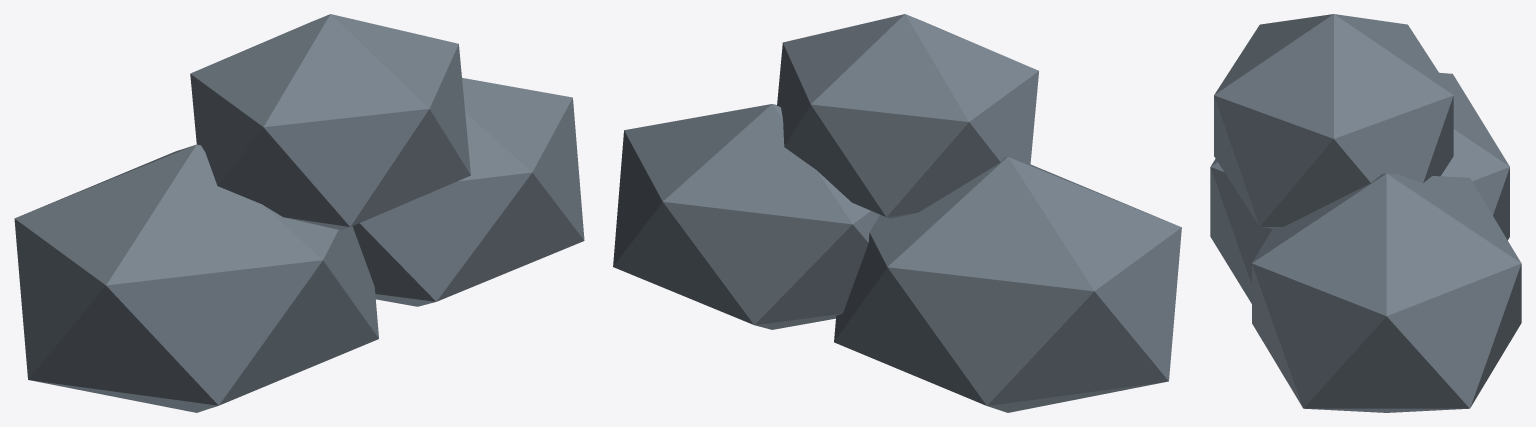
The model's file is pieza-villager-load-iron-qZeK1tGJ.glb.
3 views of the same model, side by side, from view 1: azimuth 30°, elevation 25°; view 2: azimuth 150°, elevation 25°; view 3: azimuth 270°, elevation 25° (orthographic). The views are drawn at different scales.
Visible parts, largest first — view 1: prop_load_iron; view 2: prop_load_iron; view 3: prop_load_iron.
Boxes of the visible parts, x1,y1,x2,y2 form: prop_load_iron: (14,14,584,412); prop_load_iron: (613,14,1181,412); prop_load_iron: (1210,14,1521,412).
Size of the model in its own units: 3.7 by 2.4 by 1.77.
